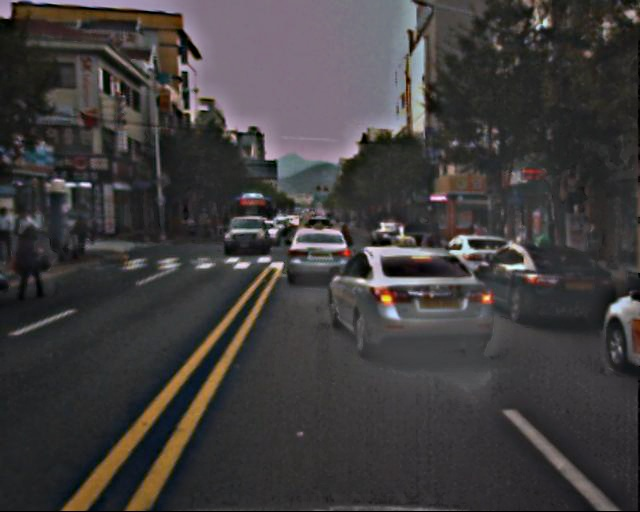person: (1, 210, 60, 294), (578, 220, 611, 291), (56, 211, 97, 246)
